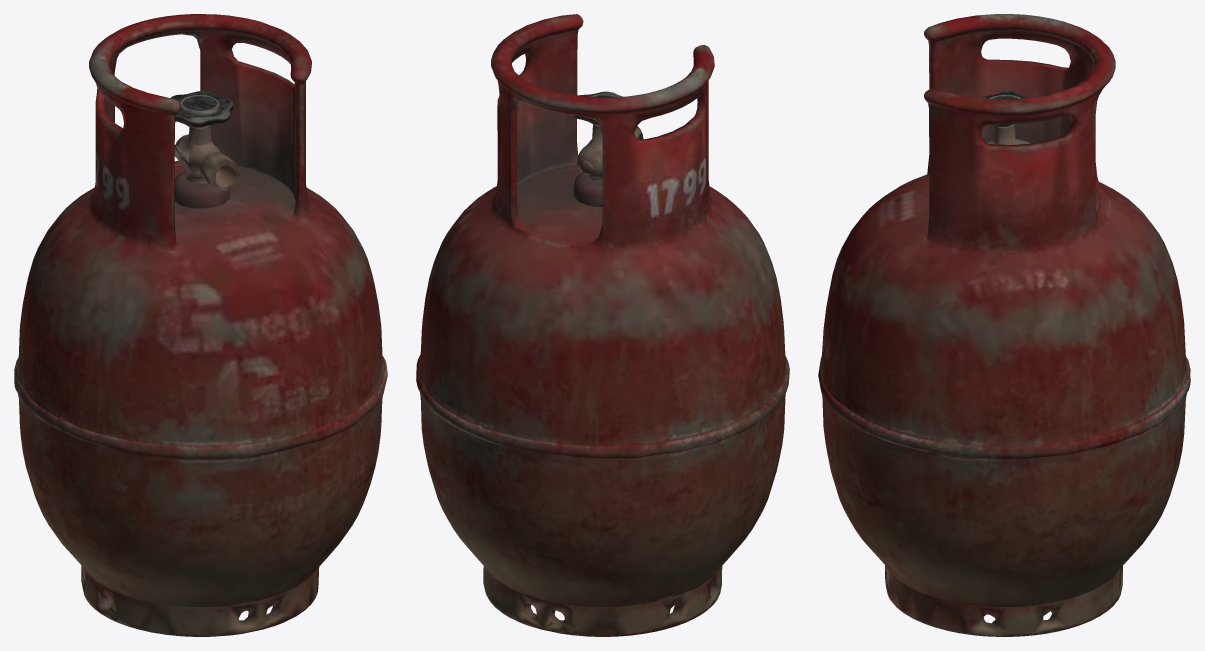
The model's file is small_lpg_tank.glb.
The picture shows the model from 3 angles, left to right: view 1: azimuth 30°, elevation 25°; view 2: azimuth 150°, elevation 25°; view 3: azimuth 270°, elevation 25°; orthographic projection.
Parts seen in each view (by area): view 1: small_lpg_tank; view 2: small_lpg_tank; view 3: small_lpg_tank.
Part boxes in pixels (left/top/right/bottom): small_lpg_tank: left=14, top=14, right=387, bottom=636; small_lpg_tank: left=416, top=14, right=789, bottom=636; small_lpg_tank: left=818, top=14, right=1190, bottom=636.
Size of the model in its own units: 0.4099 by 0.642 by 0.4092.
Materials: 1 (1 with a texture image).
